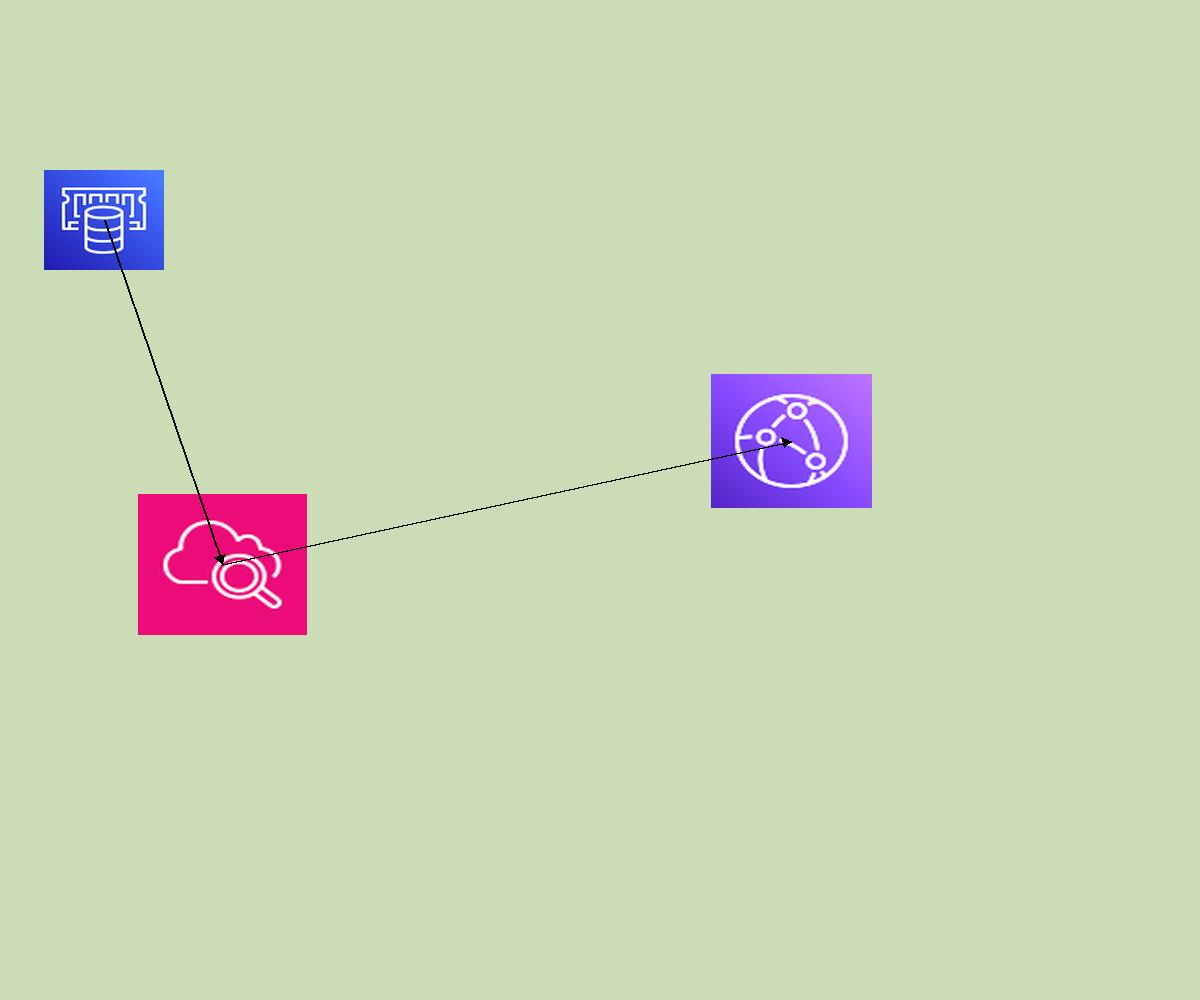AWS-CloudFront: (711, 374, 872, 508)
AWS-CloudWatch: (138, 494, 307, 635)
AWS-ElastiCache: (44, 170, 164, 270)
